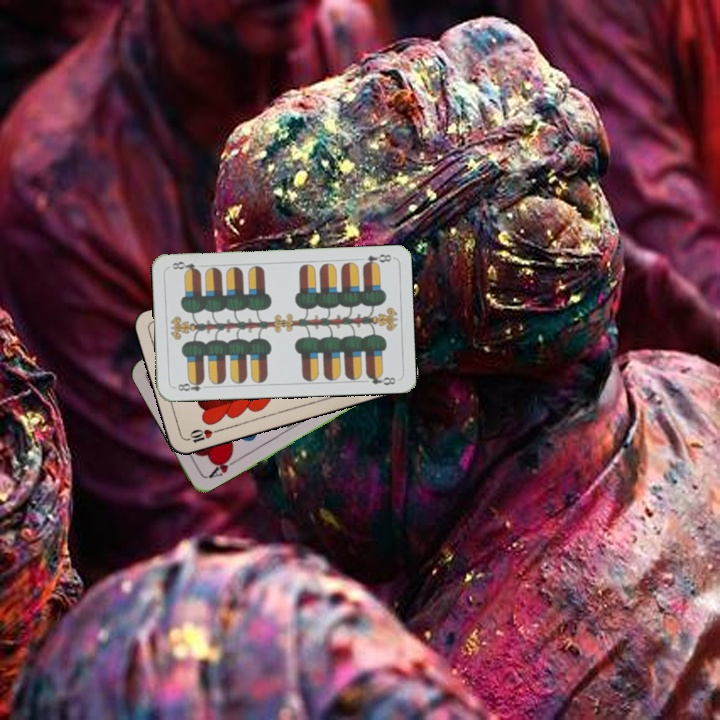E8: (171, 376, 211, 394), (359, 250, 395, 269)
H10: (183, 425, 223, 445)
HA: (205, 451, 241, 481)
